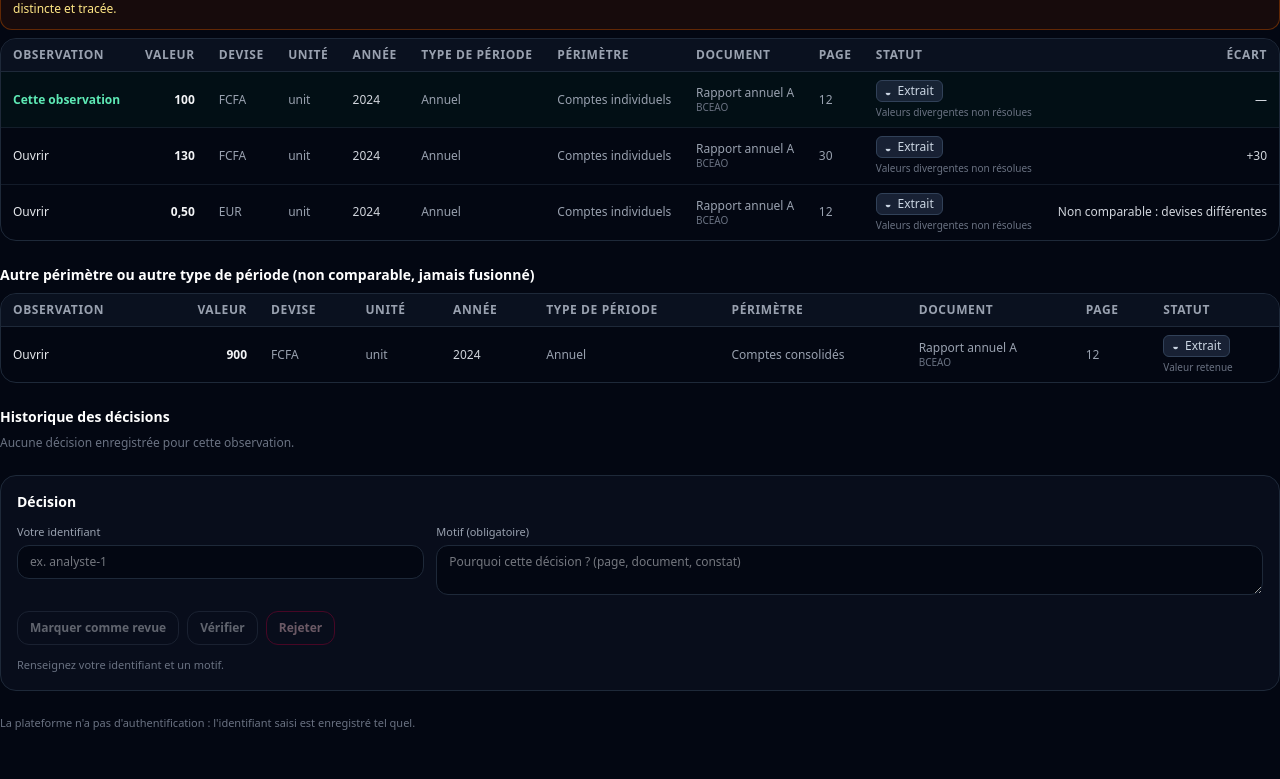
Test: review actions › error 409 is shown explicitly
The width and height of the screenshot is (1280, 779).
(page scrolled)
In the field labelled "Votre identifiant": point(221, 562) top-left (17, 545), bottom-right (424, 579), type "analyst-1"
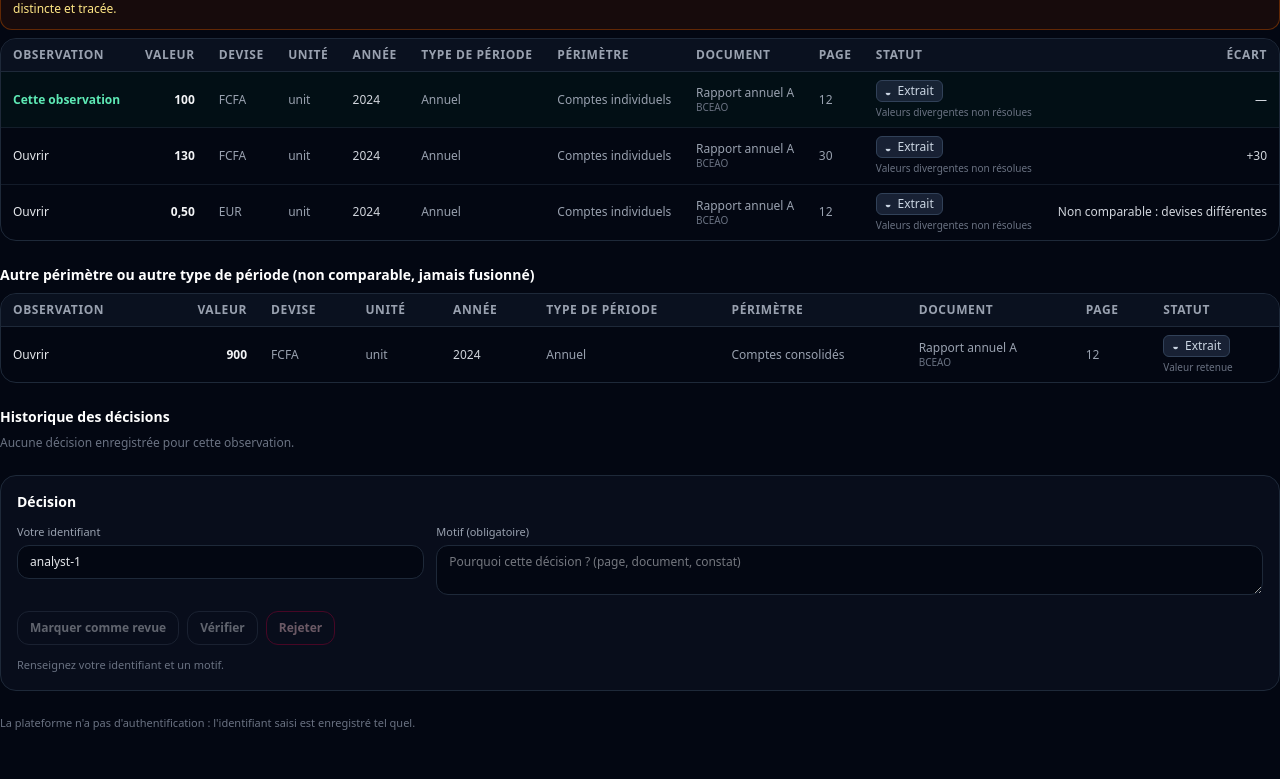
In the text box labelled "Motif (obligatoire)": point(850, 570) top-left (436, 545), bottom-right (1263, 595), type "Checked on p.12"
(page scrolled)
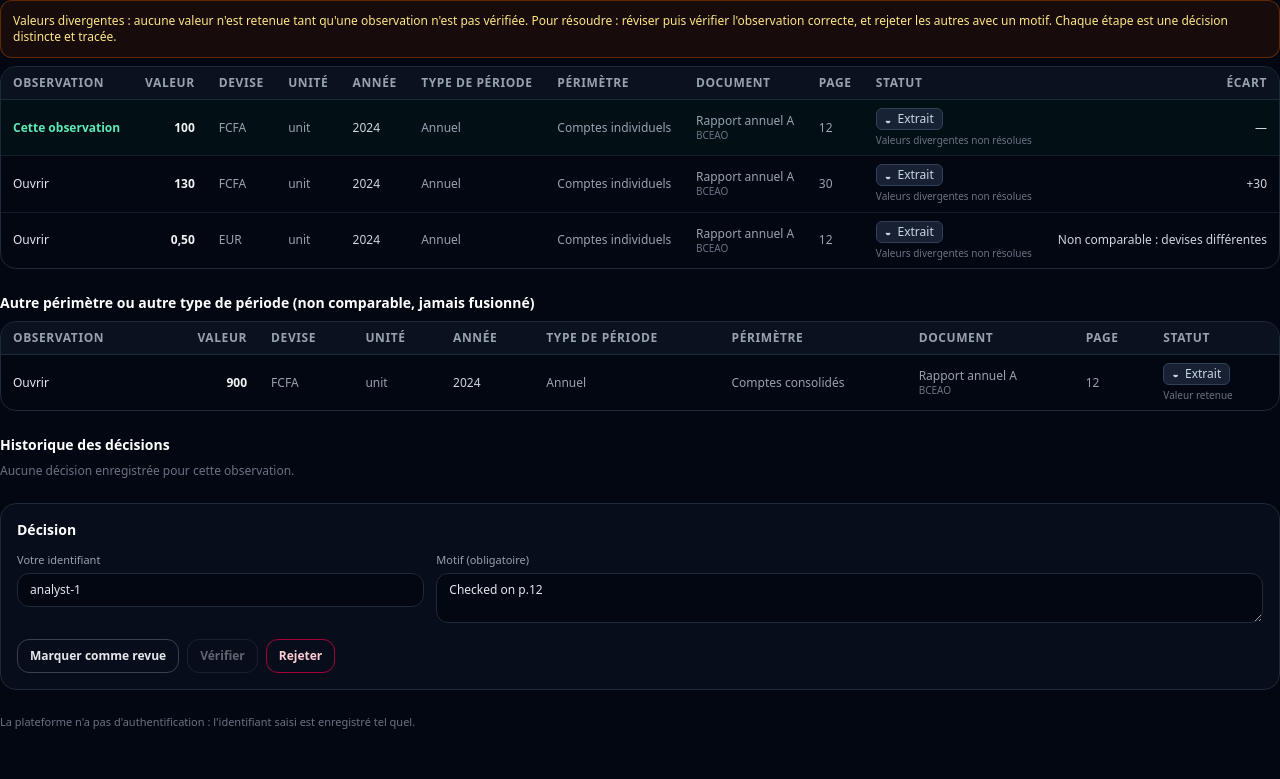
Click the button with test id "dq-action-review": point(98, 656) top-left (17, 639), bottom-right (179, 673)
(page scrolled)
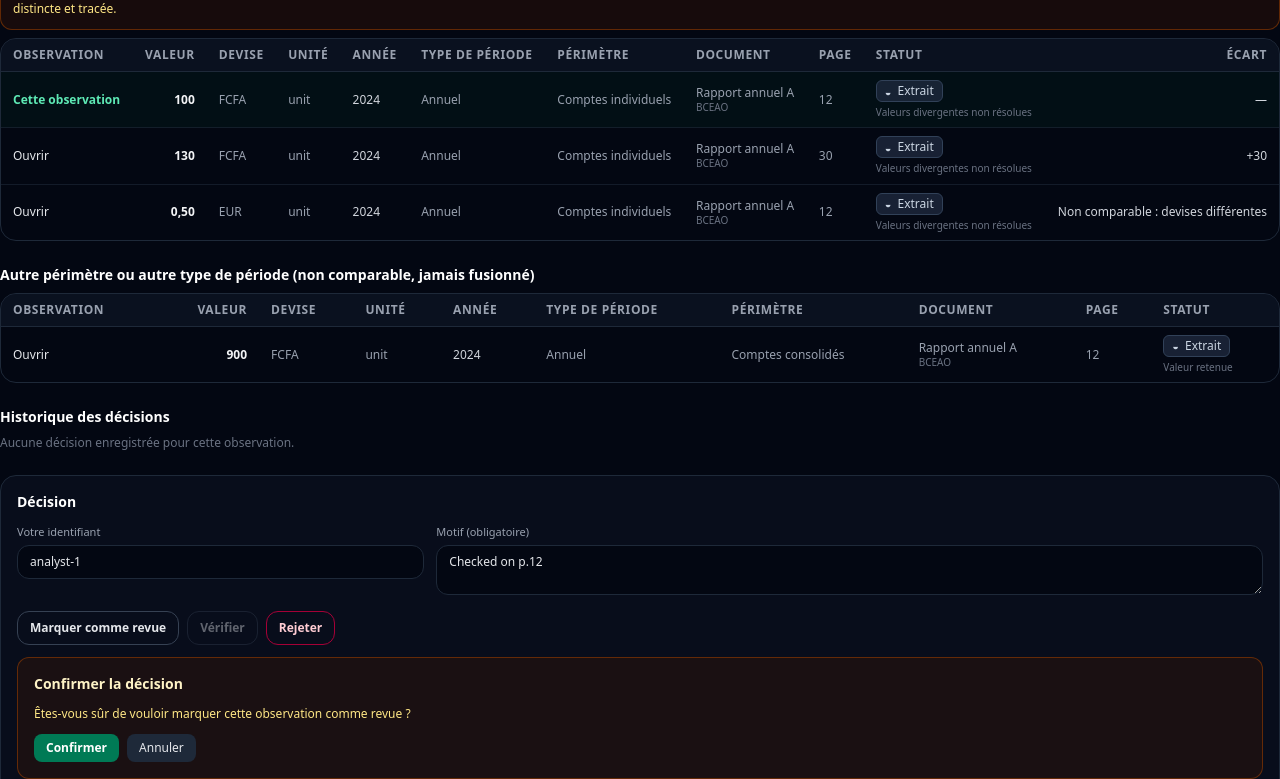
Click the button with test id "dq-confirm-yes": point(76, 748) top-left (34, 734), bottom-right (119, 762)
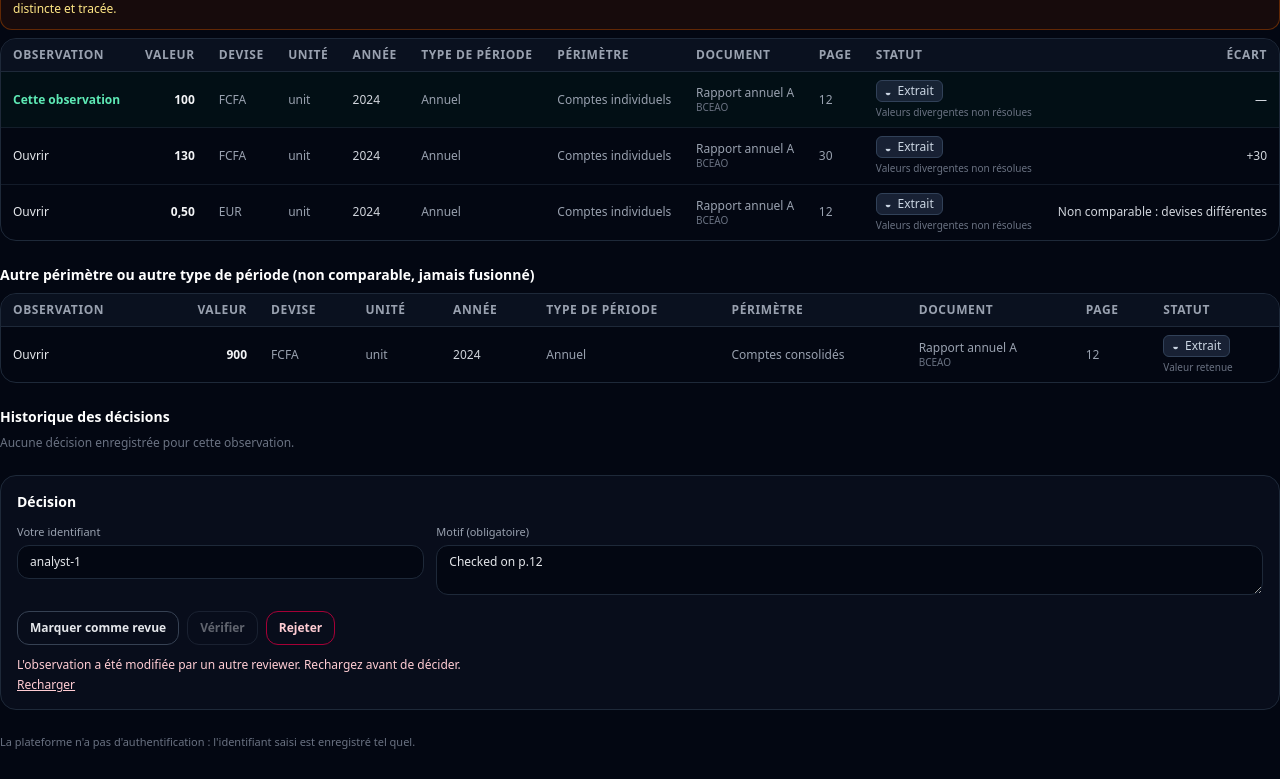
expect the message with test id "dq-error" shows "L'observation a été modifiée par un autre reviewer. Rechargez avant de décider.": met, box top-left (17, 656), bottom-right (461, 673)
